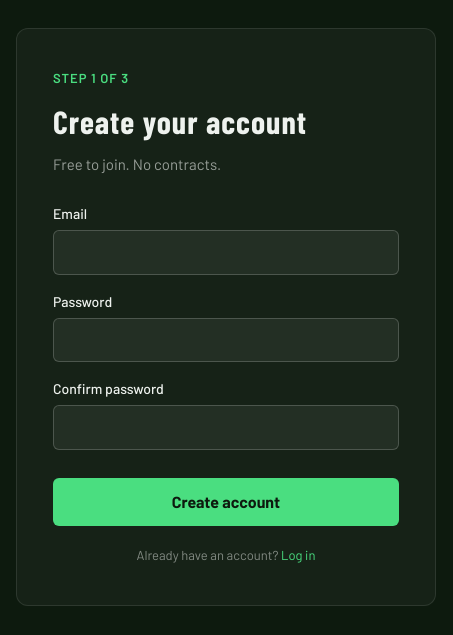
ClientSignupPage › shows error when passwords do not match
Type "test@example.com" into the field labelled "Email" at [226, 252], box [53,230,399,274]
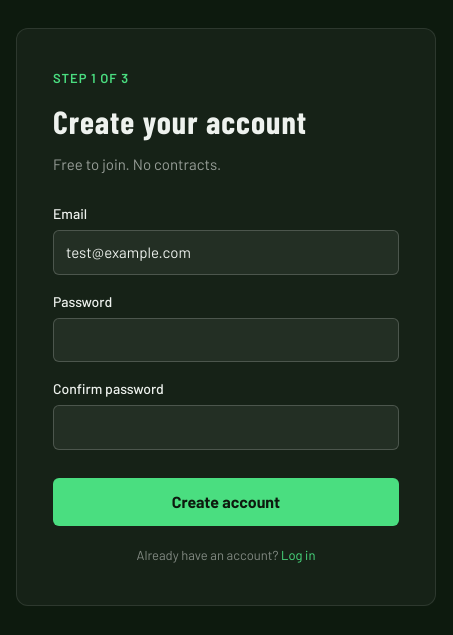
Type "Password1!" into the password field labelled "Password" at [226, 340], box [53,318,399,362]
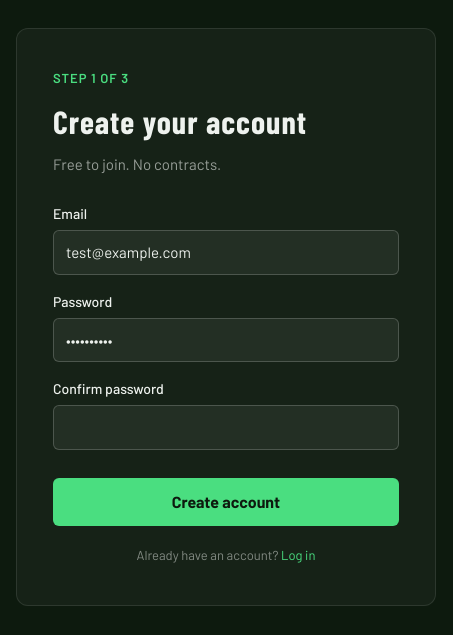
Type "Different1!" into the password field labelled "Confirm password" at [226, 427], box [53,405,399,450]
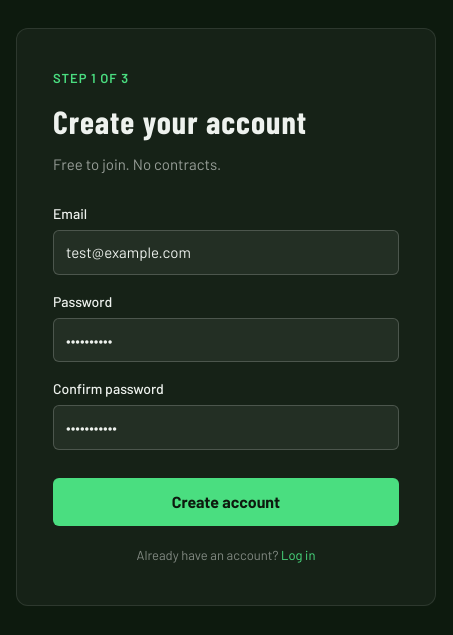
Click the button "Create account" at [226, 502], box [53,478,399,526]
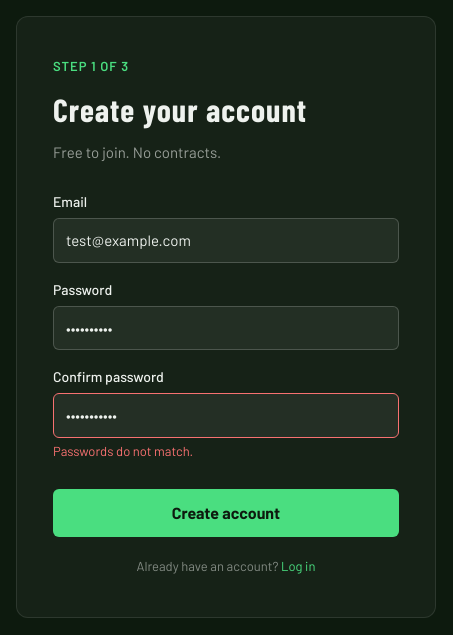
Result: the text "Passwords do not match." is shown at [53,443,193,459]
